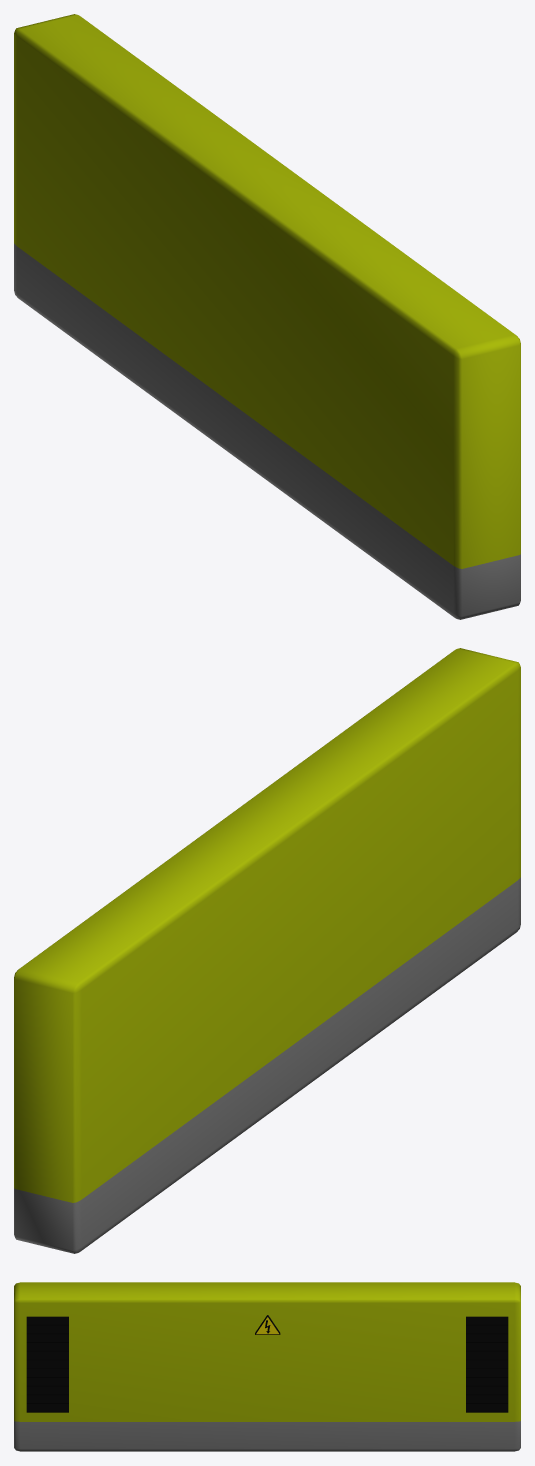
File: generator 1.fbx
3 renders of one model, top to bottom at view 1: azimuth 30°, elevation 25°; view 2: azimuth 150°, elevation 25°; view 3: azimuth 270°, elevation 25°, orthographic. The views are drawn at different scales.
Visible parts, largest first — view 1: Cube.004; view 2: Cube.004; view 3: Cube.004.
Part boxes in pixels (bbox=[...]): Cube.004: bbox=[14, 14, 520, 619]; Cube.004: bbox=[14, 648, 520, 1253]; Cube.004: bbox=[14, 1282, 520, 1451].
Size of the model in its own units: 111 by 400 by 1200.
